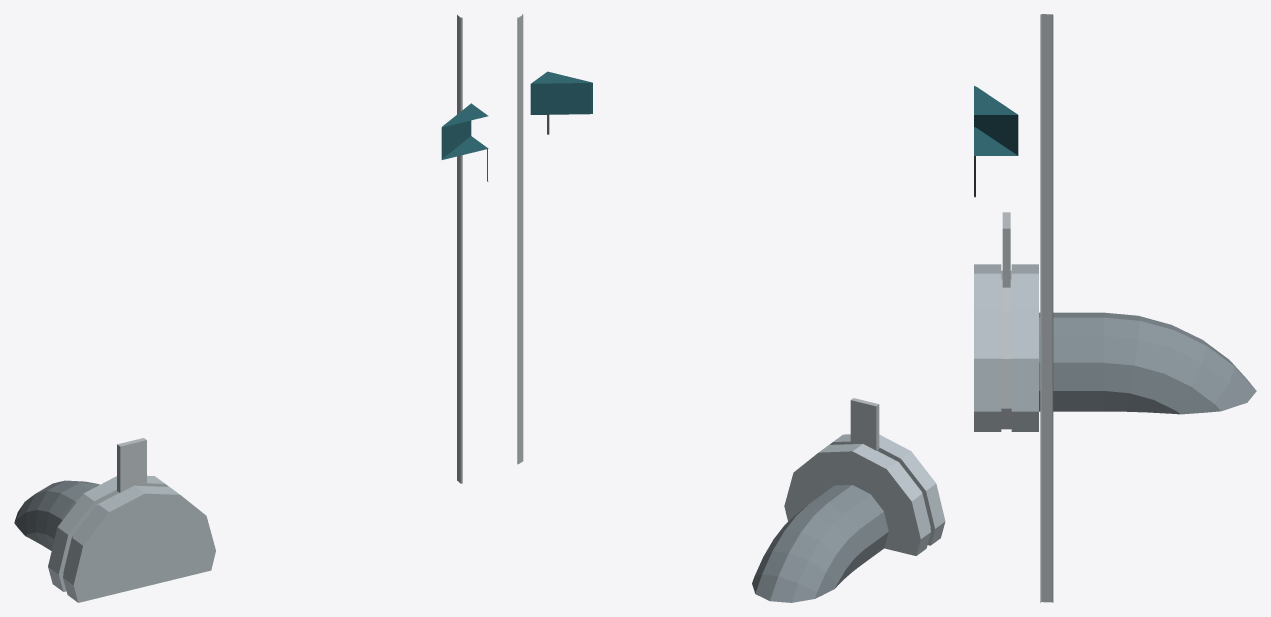
File: cell_24.obj
The picture shows the model from 3 angles, left to right: view 1: azimuth 30°, elevation 25°; view 2: azimuth 150°, elevation 25°; view 3: azimuth 270°, elevation 25°; orthographic projection. The views are drawn at different scales.
Size of the model in its own units: 0.9325 by 1 by 0.4356.
